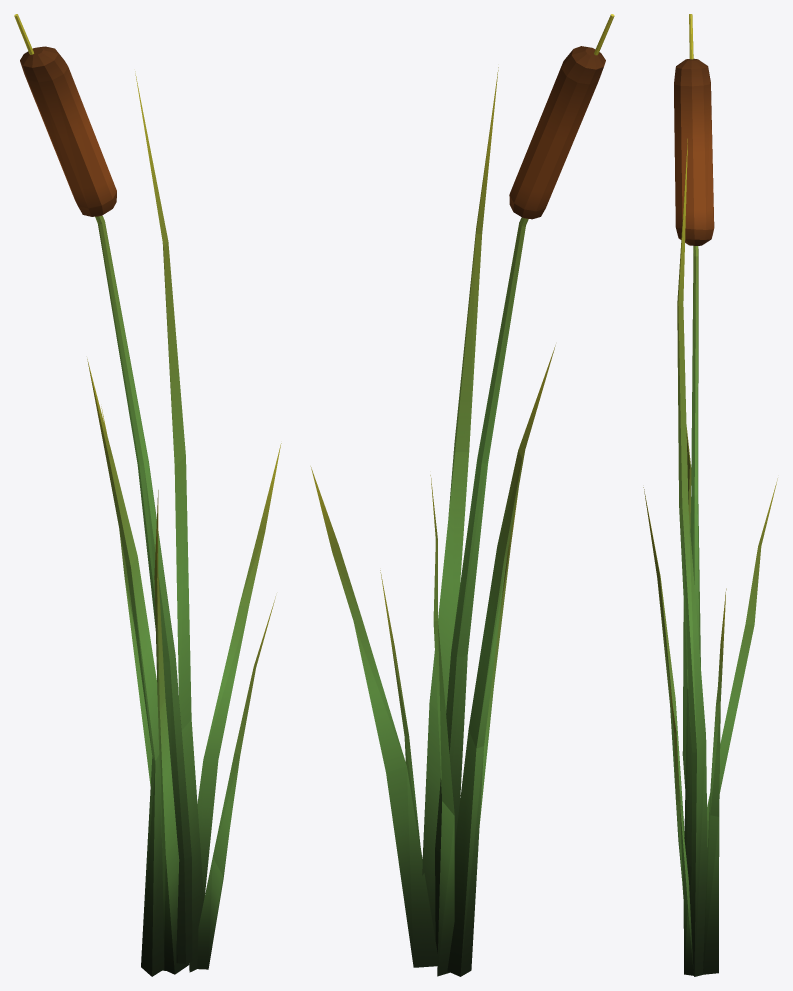
Rendered from PondReed-01.FBX.
3 views of the same model, side by side, from view 1: azimuth 30°, elevation 25°; view 2: azimuth 150°, elevation 25°; view 3: azimuth 270°, elevation 25° (orthographic). The views are drawn at different scales.
Visible parts, largest first — view 1: PondReed-01; view 2: PondReed-01; view 3: PondReed-01.
Part boxes in pixels (x1,y1,x2,y2): PondReed-01: (14, 14, 281, 976); PondReed-01: (310, 14, 614, 976); PondReed-01: (643, 14, 777, 976).
Size of the model in its own units: 73.8 by 246 by 34.21.
Materials: 1 (1 with a texture image).
